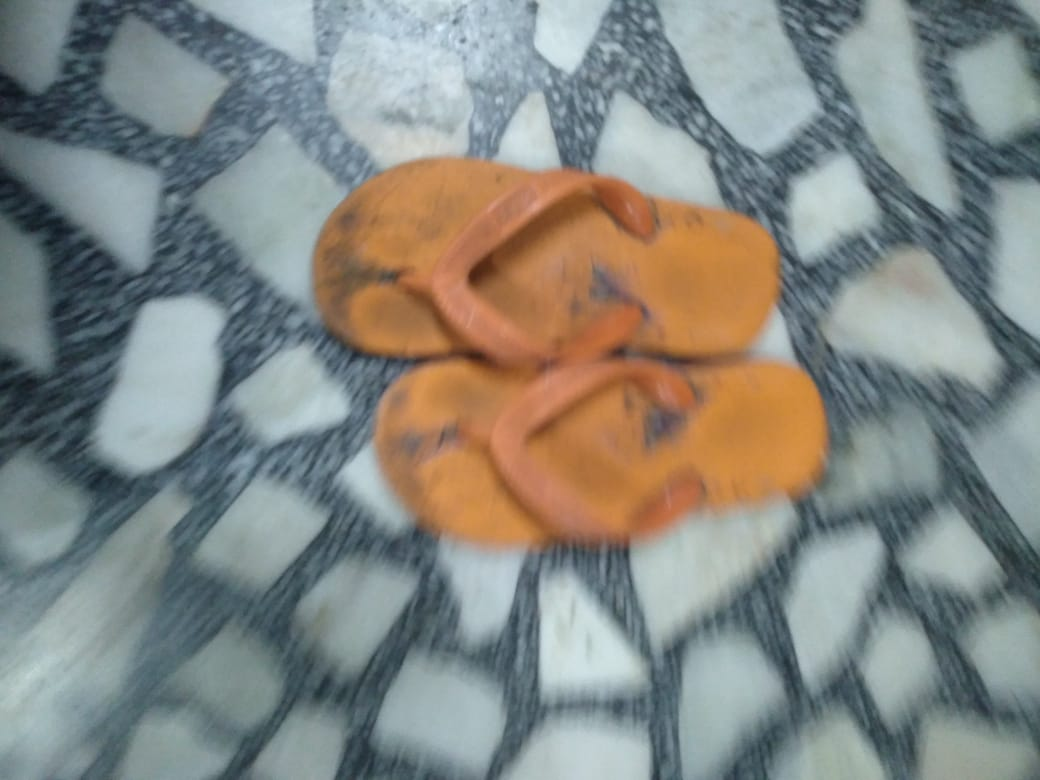Footwear: (270, 134, 844, 557), (307, 151, 801, 358), (336, 351, 834, 550)
